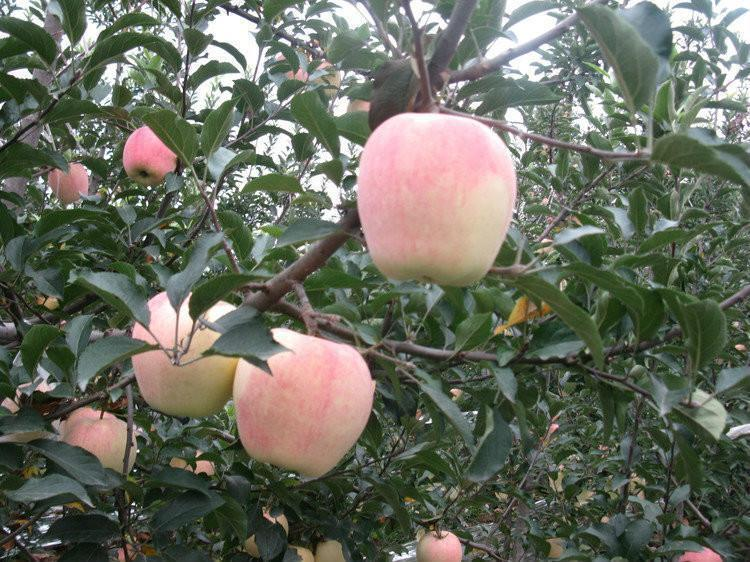apple: (354, 113, 519, 288), (231, 326, 375, 481), (133, 289, 239, 417), (59, 407, 139, 484), (121, 125, 180, 186), (47, 162, 89, 203), (415, 527, 462, 561)
